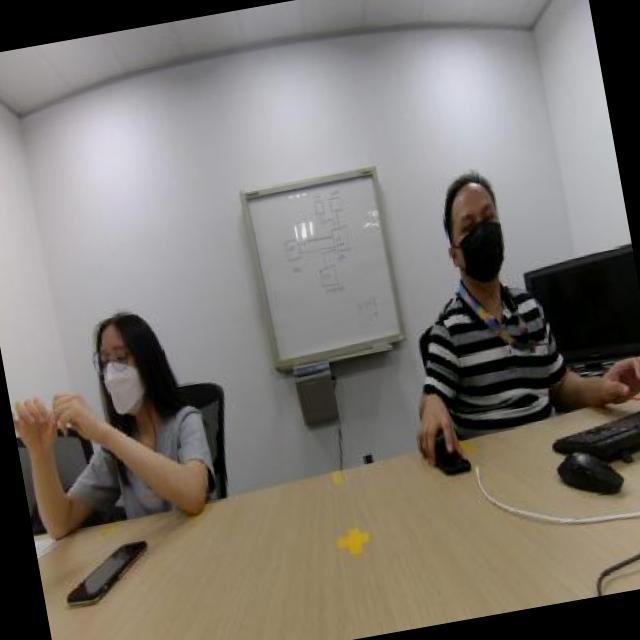Person: (381, 132, 602, 430), (18, 226, 229, 524)
